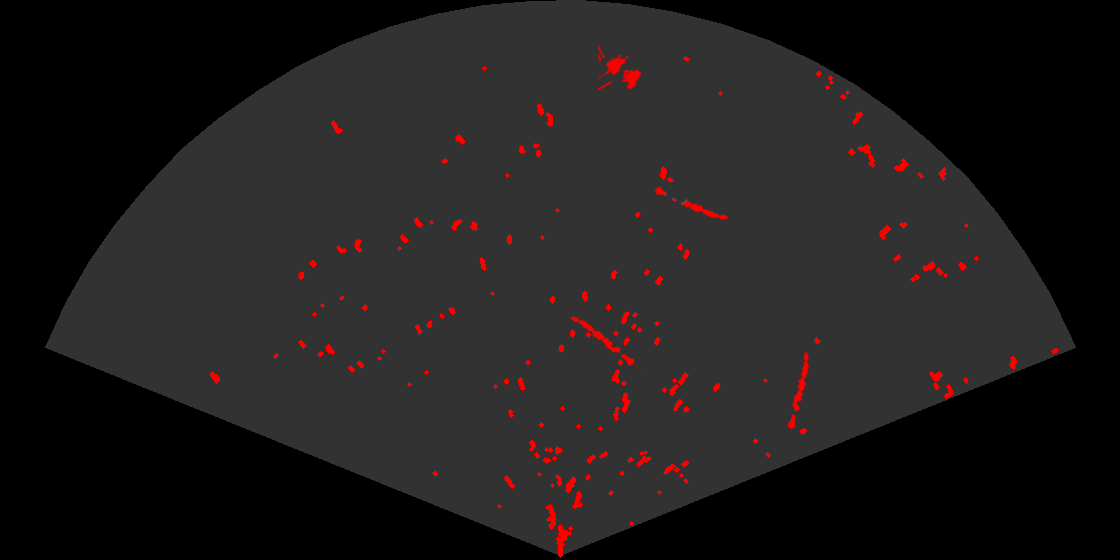cage: (598, 43, 643, 92)
chain: (569, 315, 645, 372), (647, 184, 730, 221), (786, 350, 811, 433)
